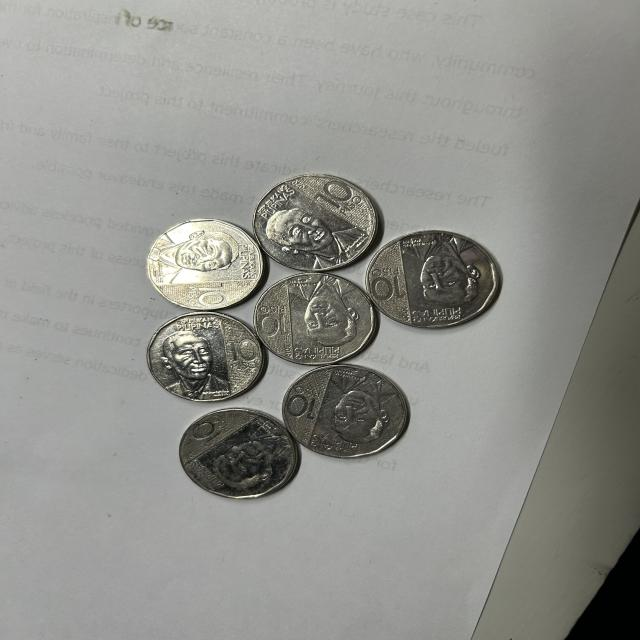10_New_Front: (305, 180, 361, 222), (180, 278, 233, 316), (222, 334, 261, 374), (285, 383, 323, 422), (256, 302, 291, 344), (368, 265, 406, 302), (190, 414, 236, 442)
